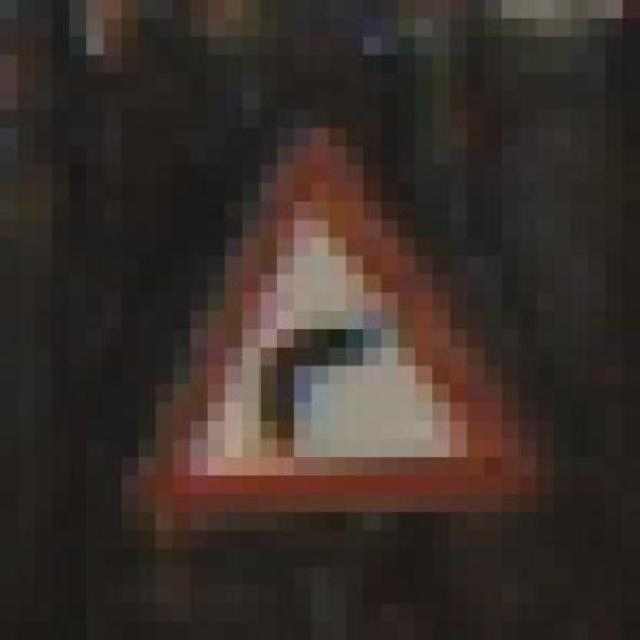Dangerous Rright Curve Ahead: (103, 92, 554, 530)
